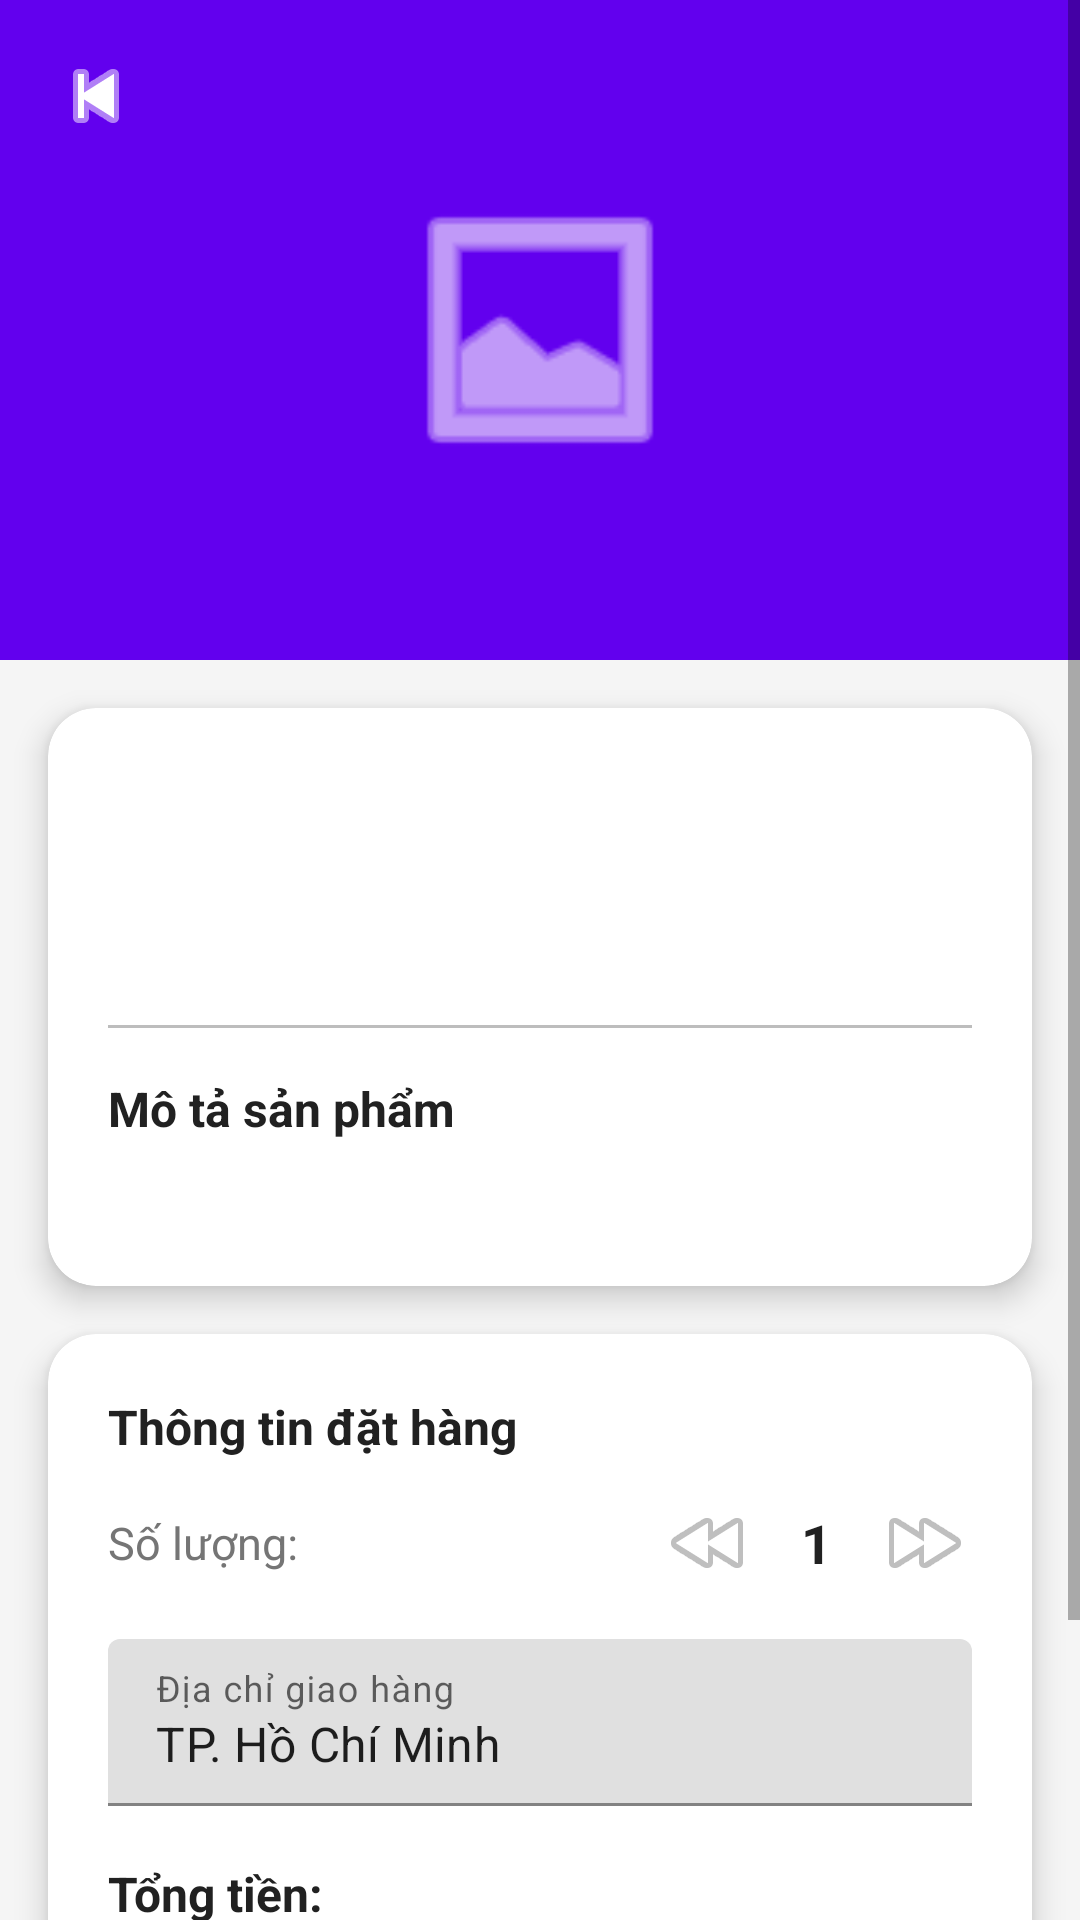

Icon bounding boxes for this 1080w x 1920h phone screenshot, format (x1, y1, x2, y2):
gallery: (427, 217, 653, 443)
Giảm: (671, 1518, 743, 1568)
Quay lại: (73, 69, 119, 123)
Tăng: (889, 1518, 961, 1568)
